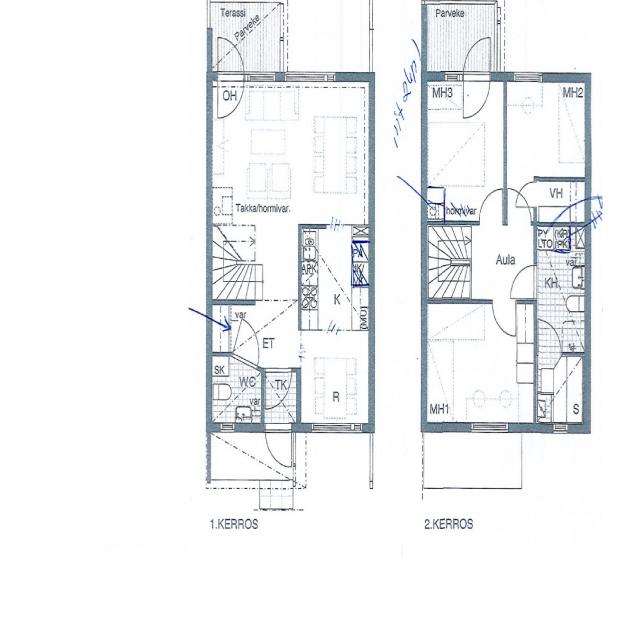door: (233, 319, 268, 370), (218, 72, 244, 119), (218, 35, 244, 82), (266, 423, 292, 470), (464, 73, 490, 120), (464, 36, 490, 83), (266, 368, 292, 409), (492, 299, 516, 337), (538, 320, 562, 357), (508, 189, 531, 227), (480, 189, 503, 227), (511, 266, 537, 298), (516, 182, 538, 207)
